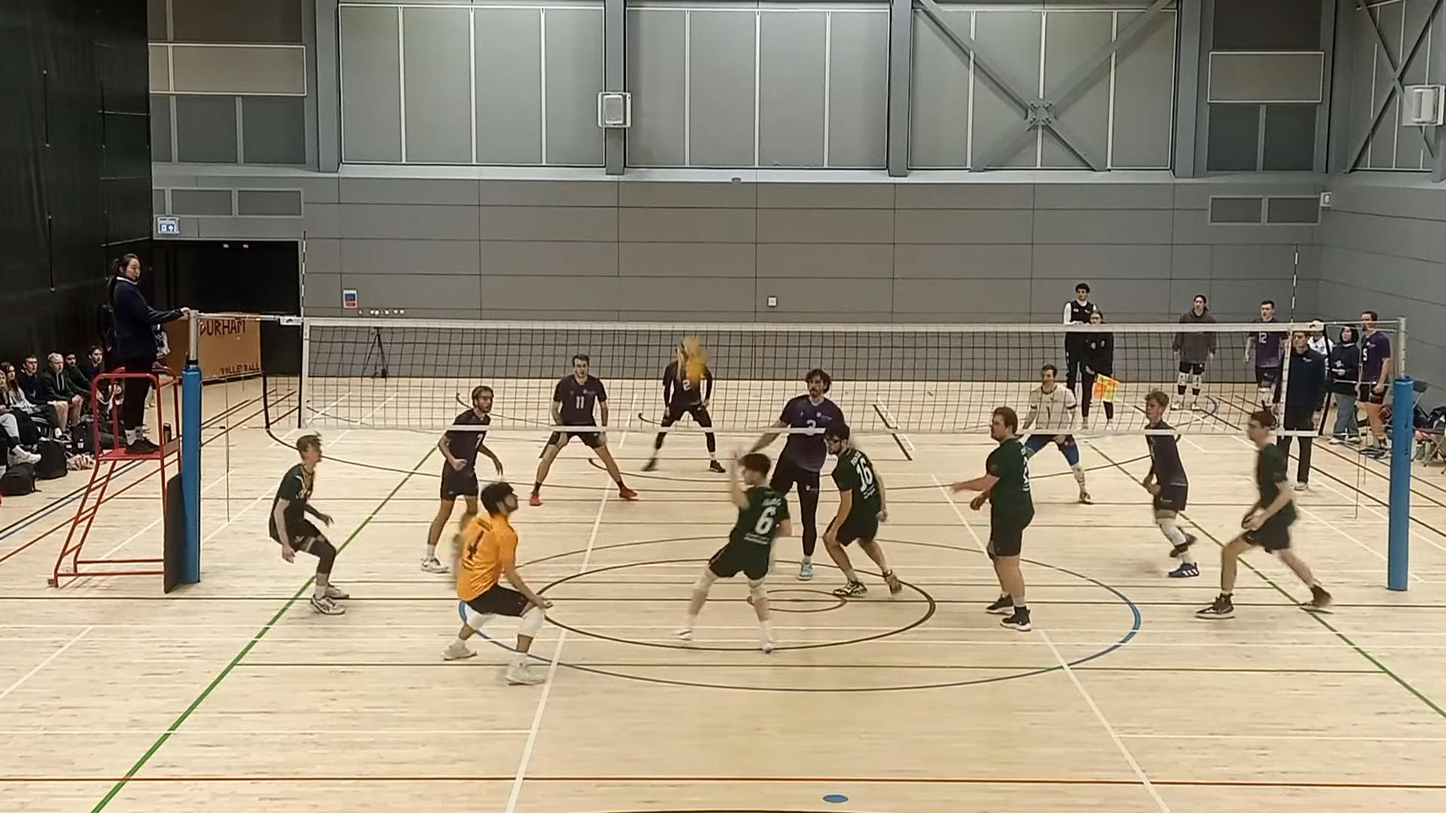Dig: (440, 476, 555, 689)
Player: (1196, 410, 1331, 618), (674, 452, 791, 652), (952, 407, 1033, 631), (770, 368, 844, 580), (421, 385, 503, 572), (269, 435, 349, 614), (824, 424, 901, 596), (1142, 391, 1198, 577), (1020, 364, 1091, 504), (643, 340, 712, 470), (529, 431, 636, 506)
